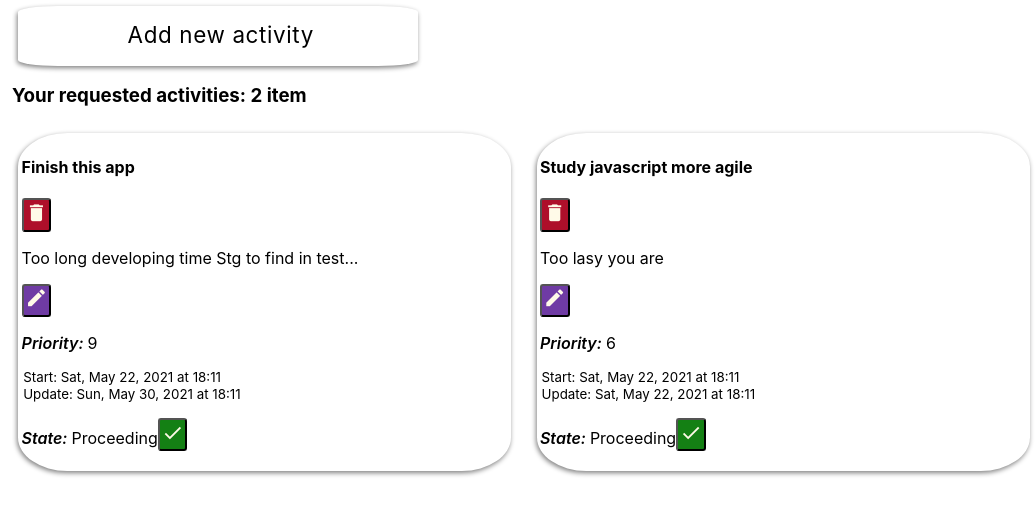
Todo list testing › Delet a todo from list
The width and height of the screenshot is (1036, 529).
Expected: the text "State:" is shown 2 times, [22, 428, 72, 448]; [540, 428, 590, 448]
What coordinates should you click on to do the following:
click the 1st button with class "btnDelete"
I would click on:
 (36, 215)
Its box is [22, 198, 51, 232].
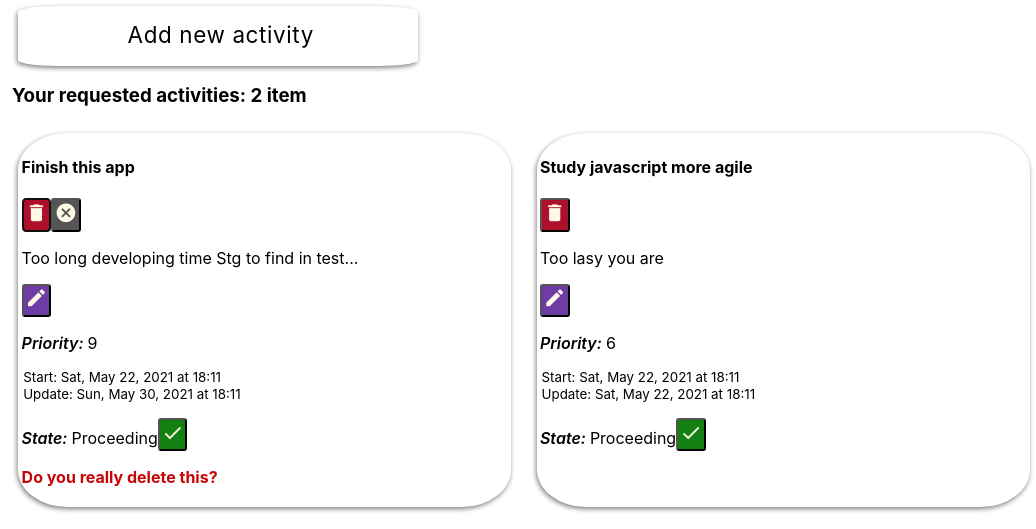
Expected: the text "State:" is shown 2 times, [22, 428, 72, 448]; [540, 428, 590, 448]
Expected: the 2nd icon "cancel" is shown, [55, 202, 77, 224]
What coordinates should you click on to do the following:
click the 1st button with class "btnDelete"
I would click on:
 (36, 215)
Its box is [22, 198, 51, 232].
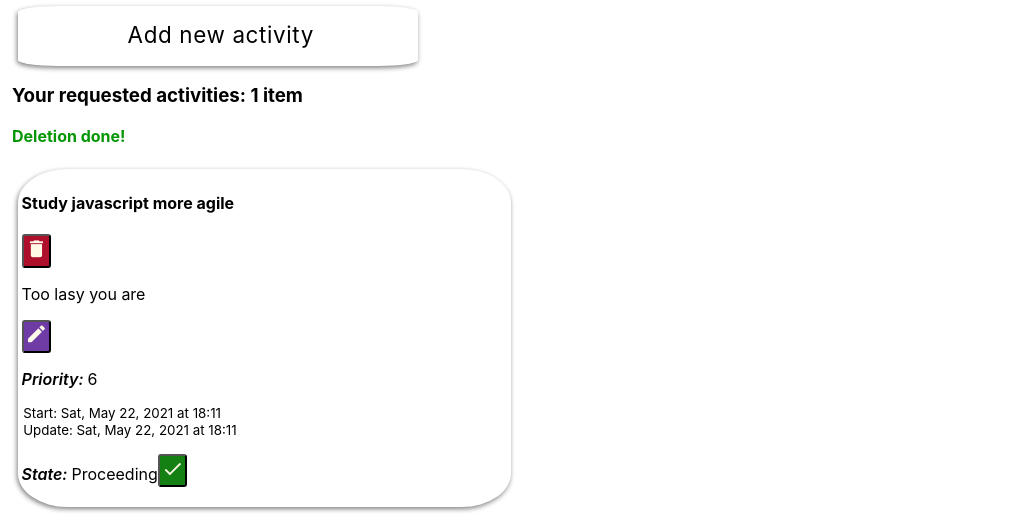
Expected: the text "cancel" is not shown
Expected: the text "State:" is shown once, [22, 464, 72, 484]
Expected: the text "todoCard1234567890abcdef12345678" is gone
